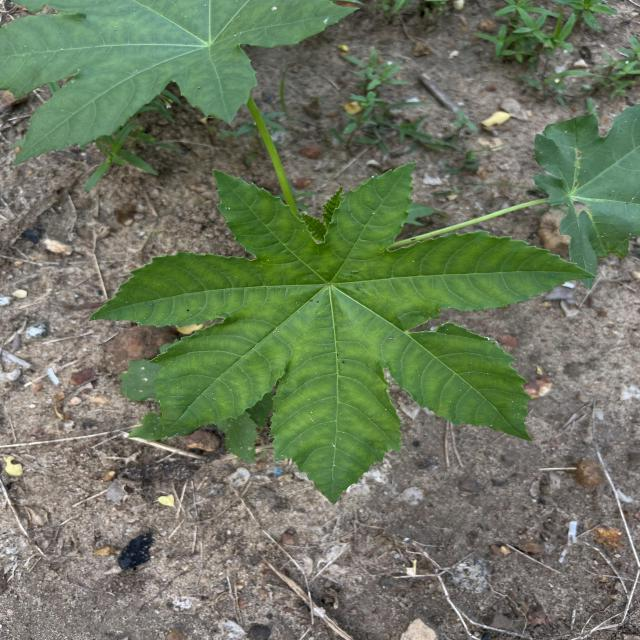Ricinus communis linn: (82, 154, 600, 511)
